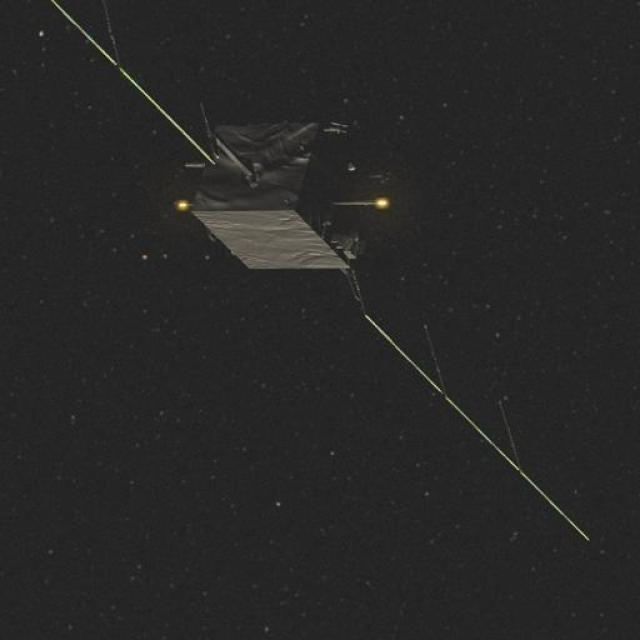smart_1: (138, 52, 538, 500)
